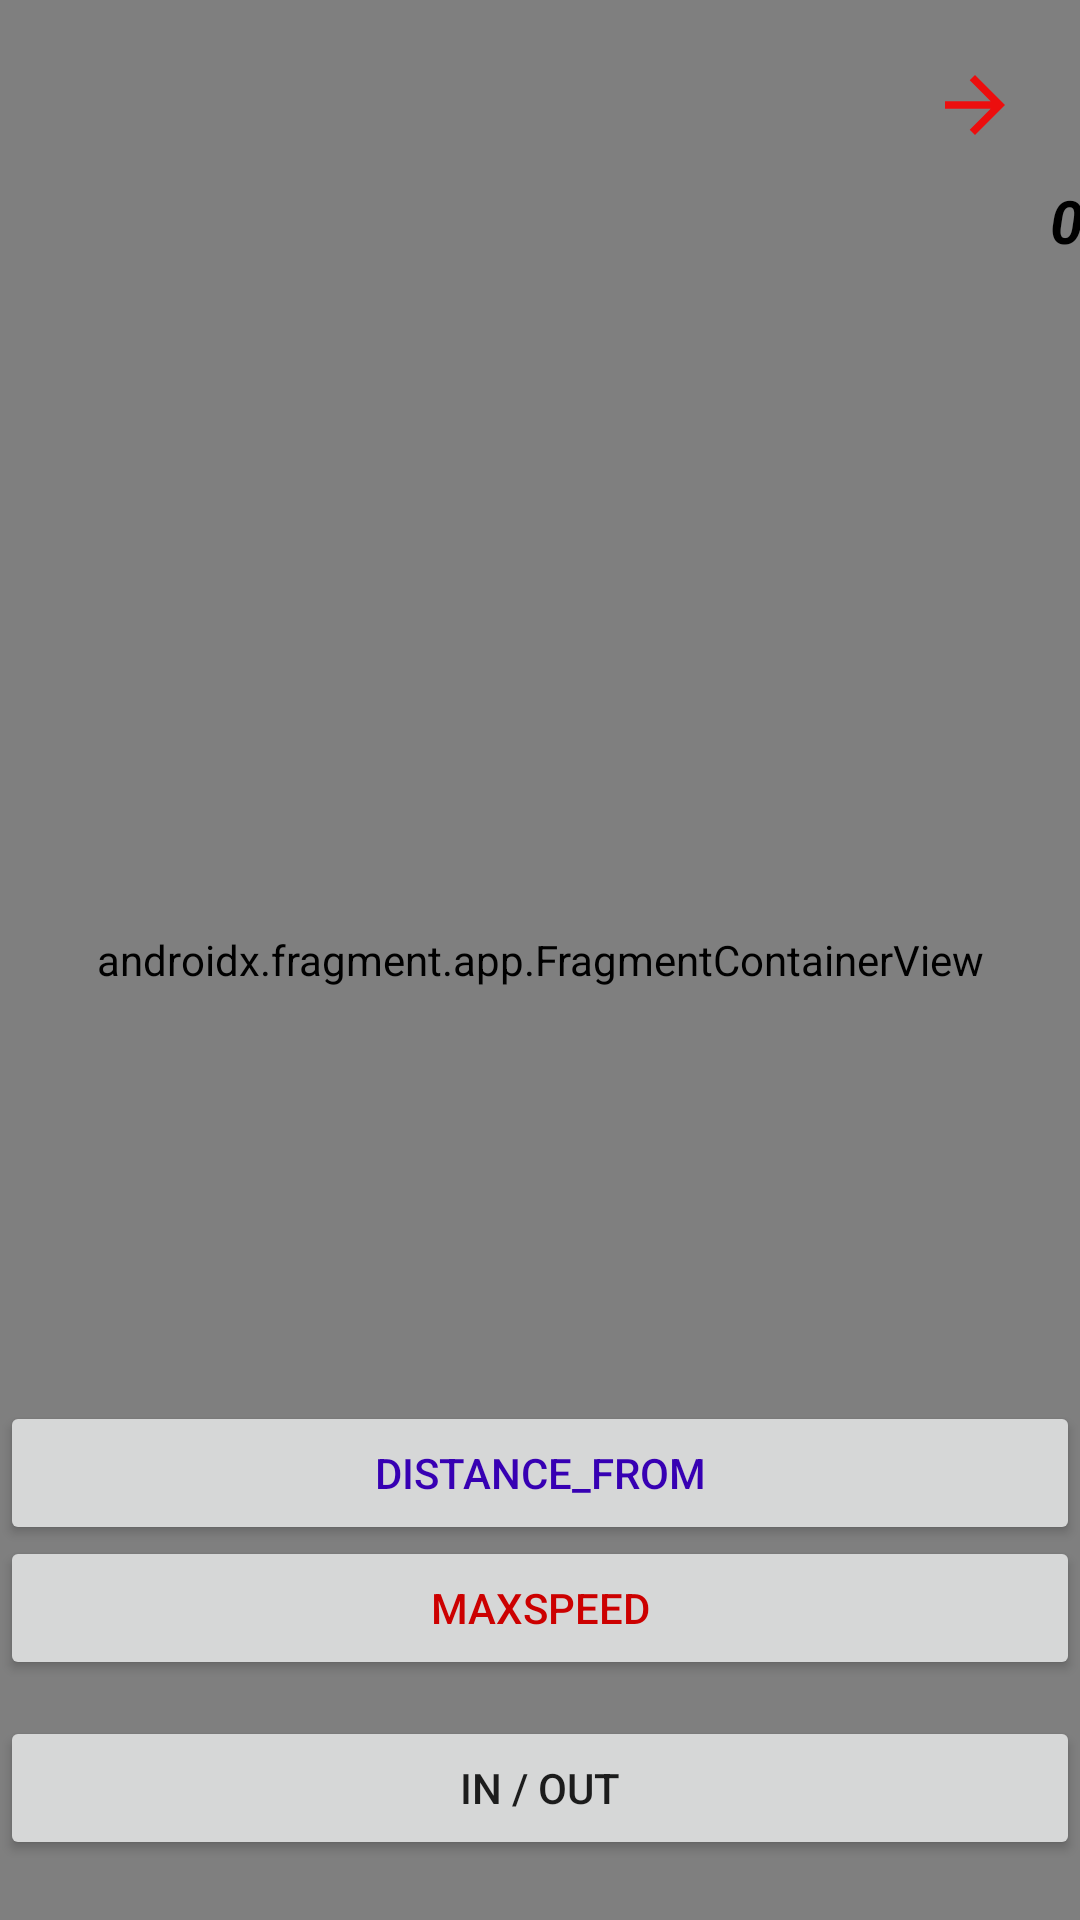

Icon click points for this 1080px x 1920px phone screenshot, format [x,y]:
arrow forward: [975,105]
